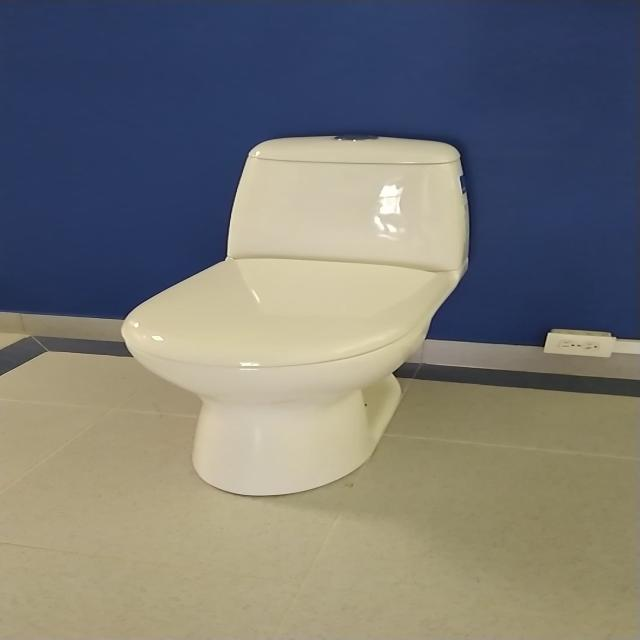toilet: (119, 134, 471, 496)
